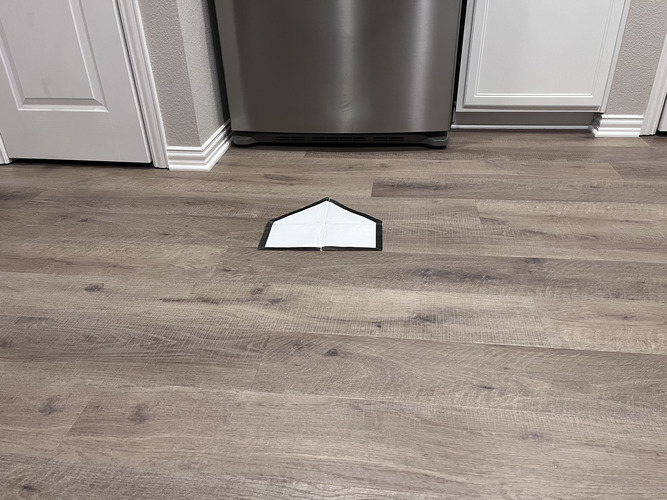homeplate: (257, 195, 383, 251)
